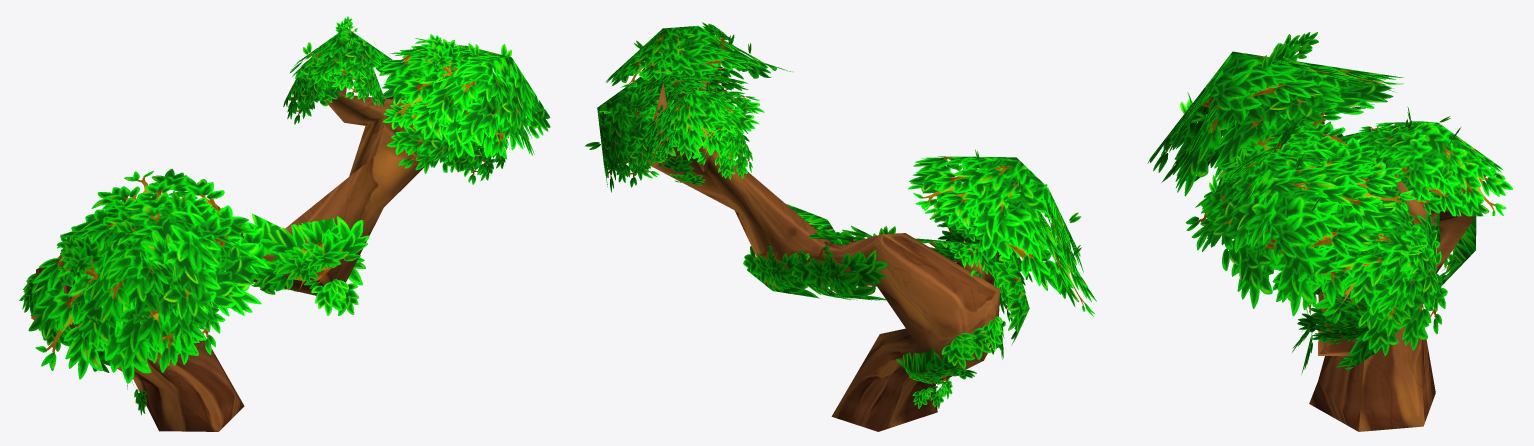
The model's file is 3_Verde_Claro_LOD_1.fbx.
3 views of the same model, side by side, from view 1: azimuth 30°, elevation 25°; view 2: azimuth 150°, elevation 25°; view 3: azimuth 270°, elevation 25° (orthographic). The views are drawn at different scales.
Parts seen in each view (by area): view 1: 3_Verde_Claro_LOD_1; view 2: 3_Verde_Claro_LOD_1; view 3: 3_Verde_Claro_LOD_1.
Part boxes in pixels (x1,y1,x2,y2): 3_Verde_Claro_LOD_1: (19,16,550,431); 3_Verde_Claro_LOD_1: (585,22,1096,431); 3_Verde_Claro_LOD_1: (1147,32,1512,431).
Size of the model in its own units: 755 by 498 by 412.
